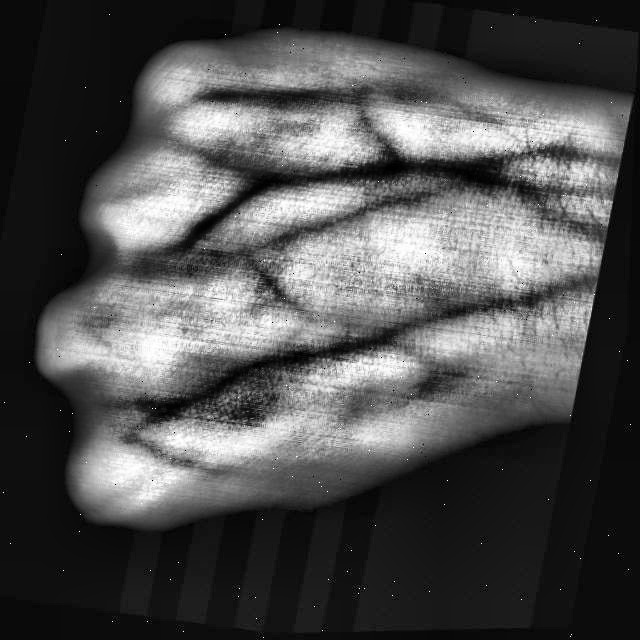Vein: (289, 155, 467, 192)
